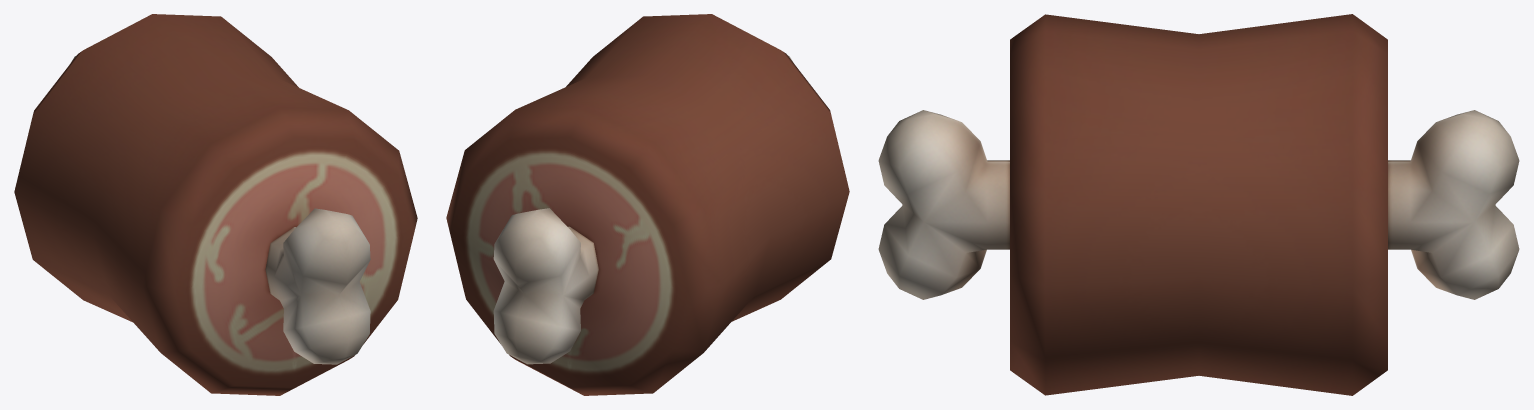
Rendered from MeatA.fbx.
The picture shows the model from 3 angles, left to right: view 1: azimuth 30°, elevation 25°; view 2: azimuth 150°, elevation 25°; view 3: azimuth 270°, elevation 25°; orthographic projection. The views are drawn at different scales.
Visible parts, largest first — view 1: MeatA; view 2: MeatA; view 3: MeatA.
Part boxes in pixels (left/top/right/bottom): MeatA: left=14, top=14, right=417, bottom=395; MeatA: left=446, top=14, right=849, bottom=395; MeatA: left=878, top=14, right=1519, bottom=395.
Bounding box in the file's own units: 28.36 × 28.36 × 47.41.
